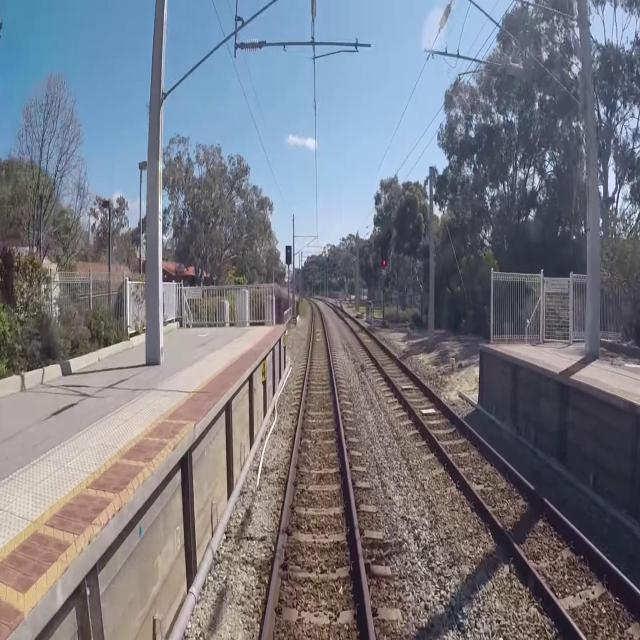rail-track: (337, 309, 640, 639), (265, 302, 369, 639)
